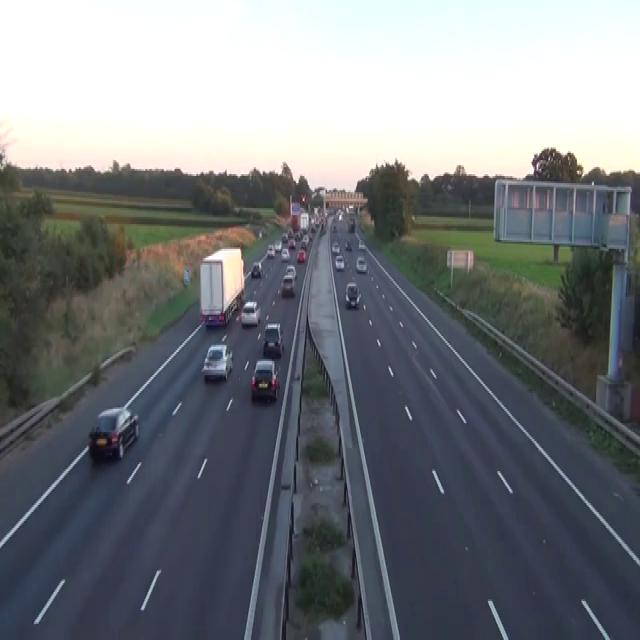Car: (88, 406, 139, 460), (250, 359, 279, 400), (202, 343, 233, 381), (262, 322, 283, 357), (240, 300, 260, 326), (345, 281, 361, 307), (280, 274, 295, 295), (355, 256, 367, 272), (251, 262, 262, 278), (285, 265, 297, 279), (335, 254, 344, 270), (266, 244, 275, 258), (296, 249, 305, 263), (281, 247, 290, 261), (301, 235, 309, 249), (331, 240, 340, 252), (274, 238, 282, 251), (347, 219, 354, 231), (288, 238, 295, 249), (309, 219, 315, 231), (446, 182, 455, 190), (345, 240, 351, 251), (320, 224, 326, 235), (358, 242, 366, 250), (281, 233, 288, 242), (294, 231, 301, 240), (300, 194, 306, 202), (287, 228, 293, 236), (332, 222, 337, 231), (338, 212, 343, 220), (258, 230, 262, 238)
Truck: (199, 247, 245, 327), (300, 212, 309, 231)
